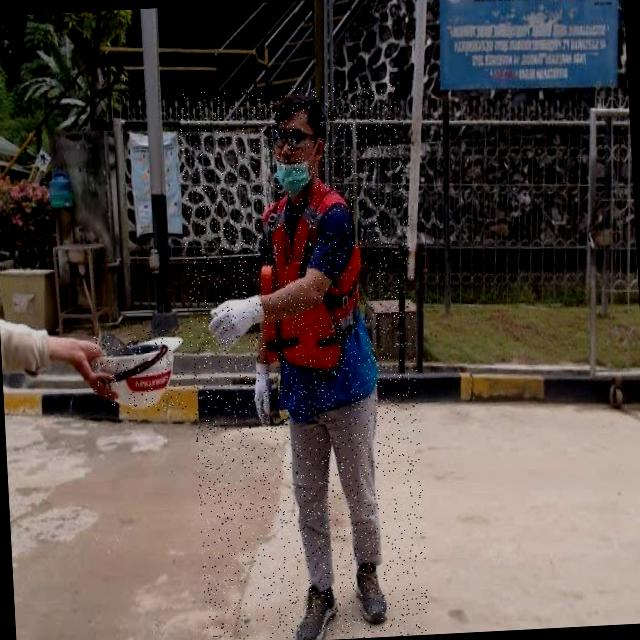gloves: (203, 281, 284, 353)
helmet: (92, 328, 186, 415)
no-boots: (289, 579, 339, 640), (351, 556, 388, 627)
no-gloves: (38, 322, 126, 394)
no-helmet: (242, 84, 329, 192)
vest: (252, 179, 382, 418)
